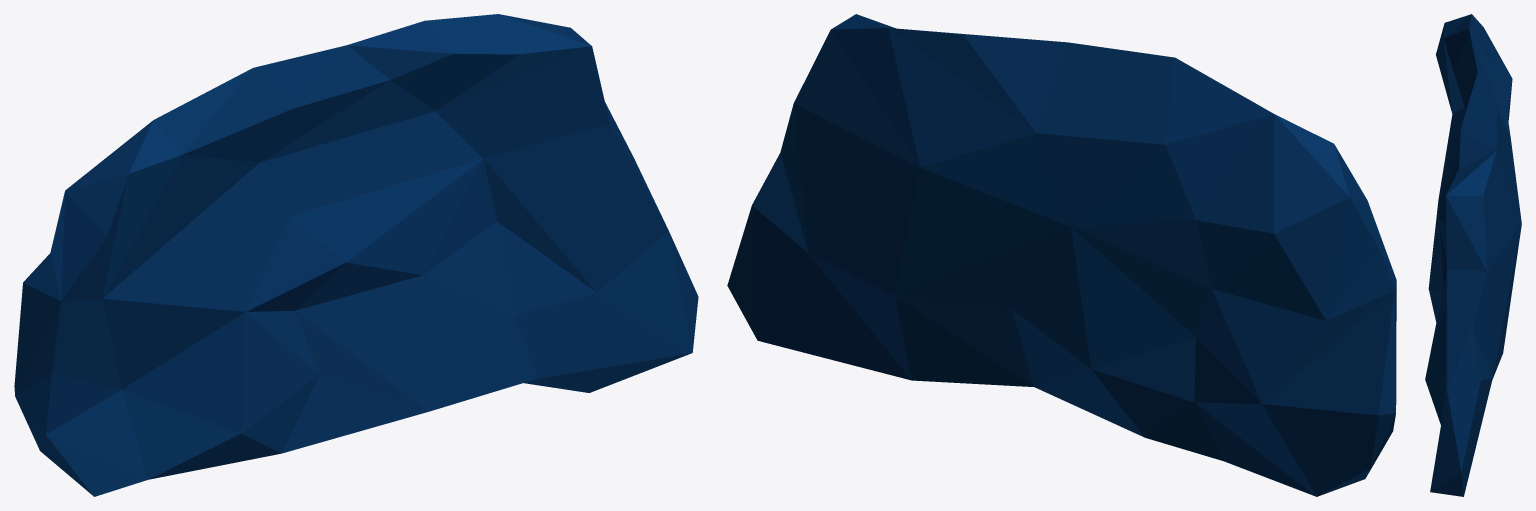
The model's file is Cave_stone_22.glb.
3 views of the same model, side by side, from view 1: azimuth 30°, elevation 25°; view 2: azimuth 150°, elevation 25°; view 3: azimuth 270°, elevation 25° (orthographic). The views are drawn at different scales.
Parts seen in each view (by area): view 1: Cave_stone_22; view 2: Cave_stone_22; view 3: Cave_stone_22.
Part boxes in pixels (left/top/right/bottom): Cave_stone_22: left=14, top=14, right=698, bottom=496; Cave_stone_22: left=727, top=14, right=1396, bottom=496; Cave_stone_22: left=1425, top=14, right=1521, bottom=496.
Bounding box in the file's own units: 9.3 × 5.22 × 1.44.
